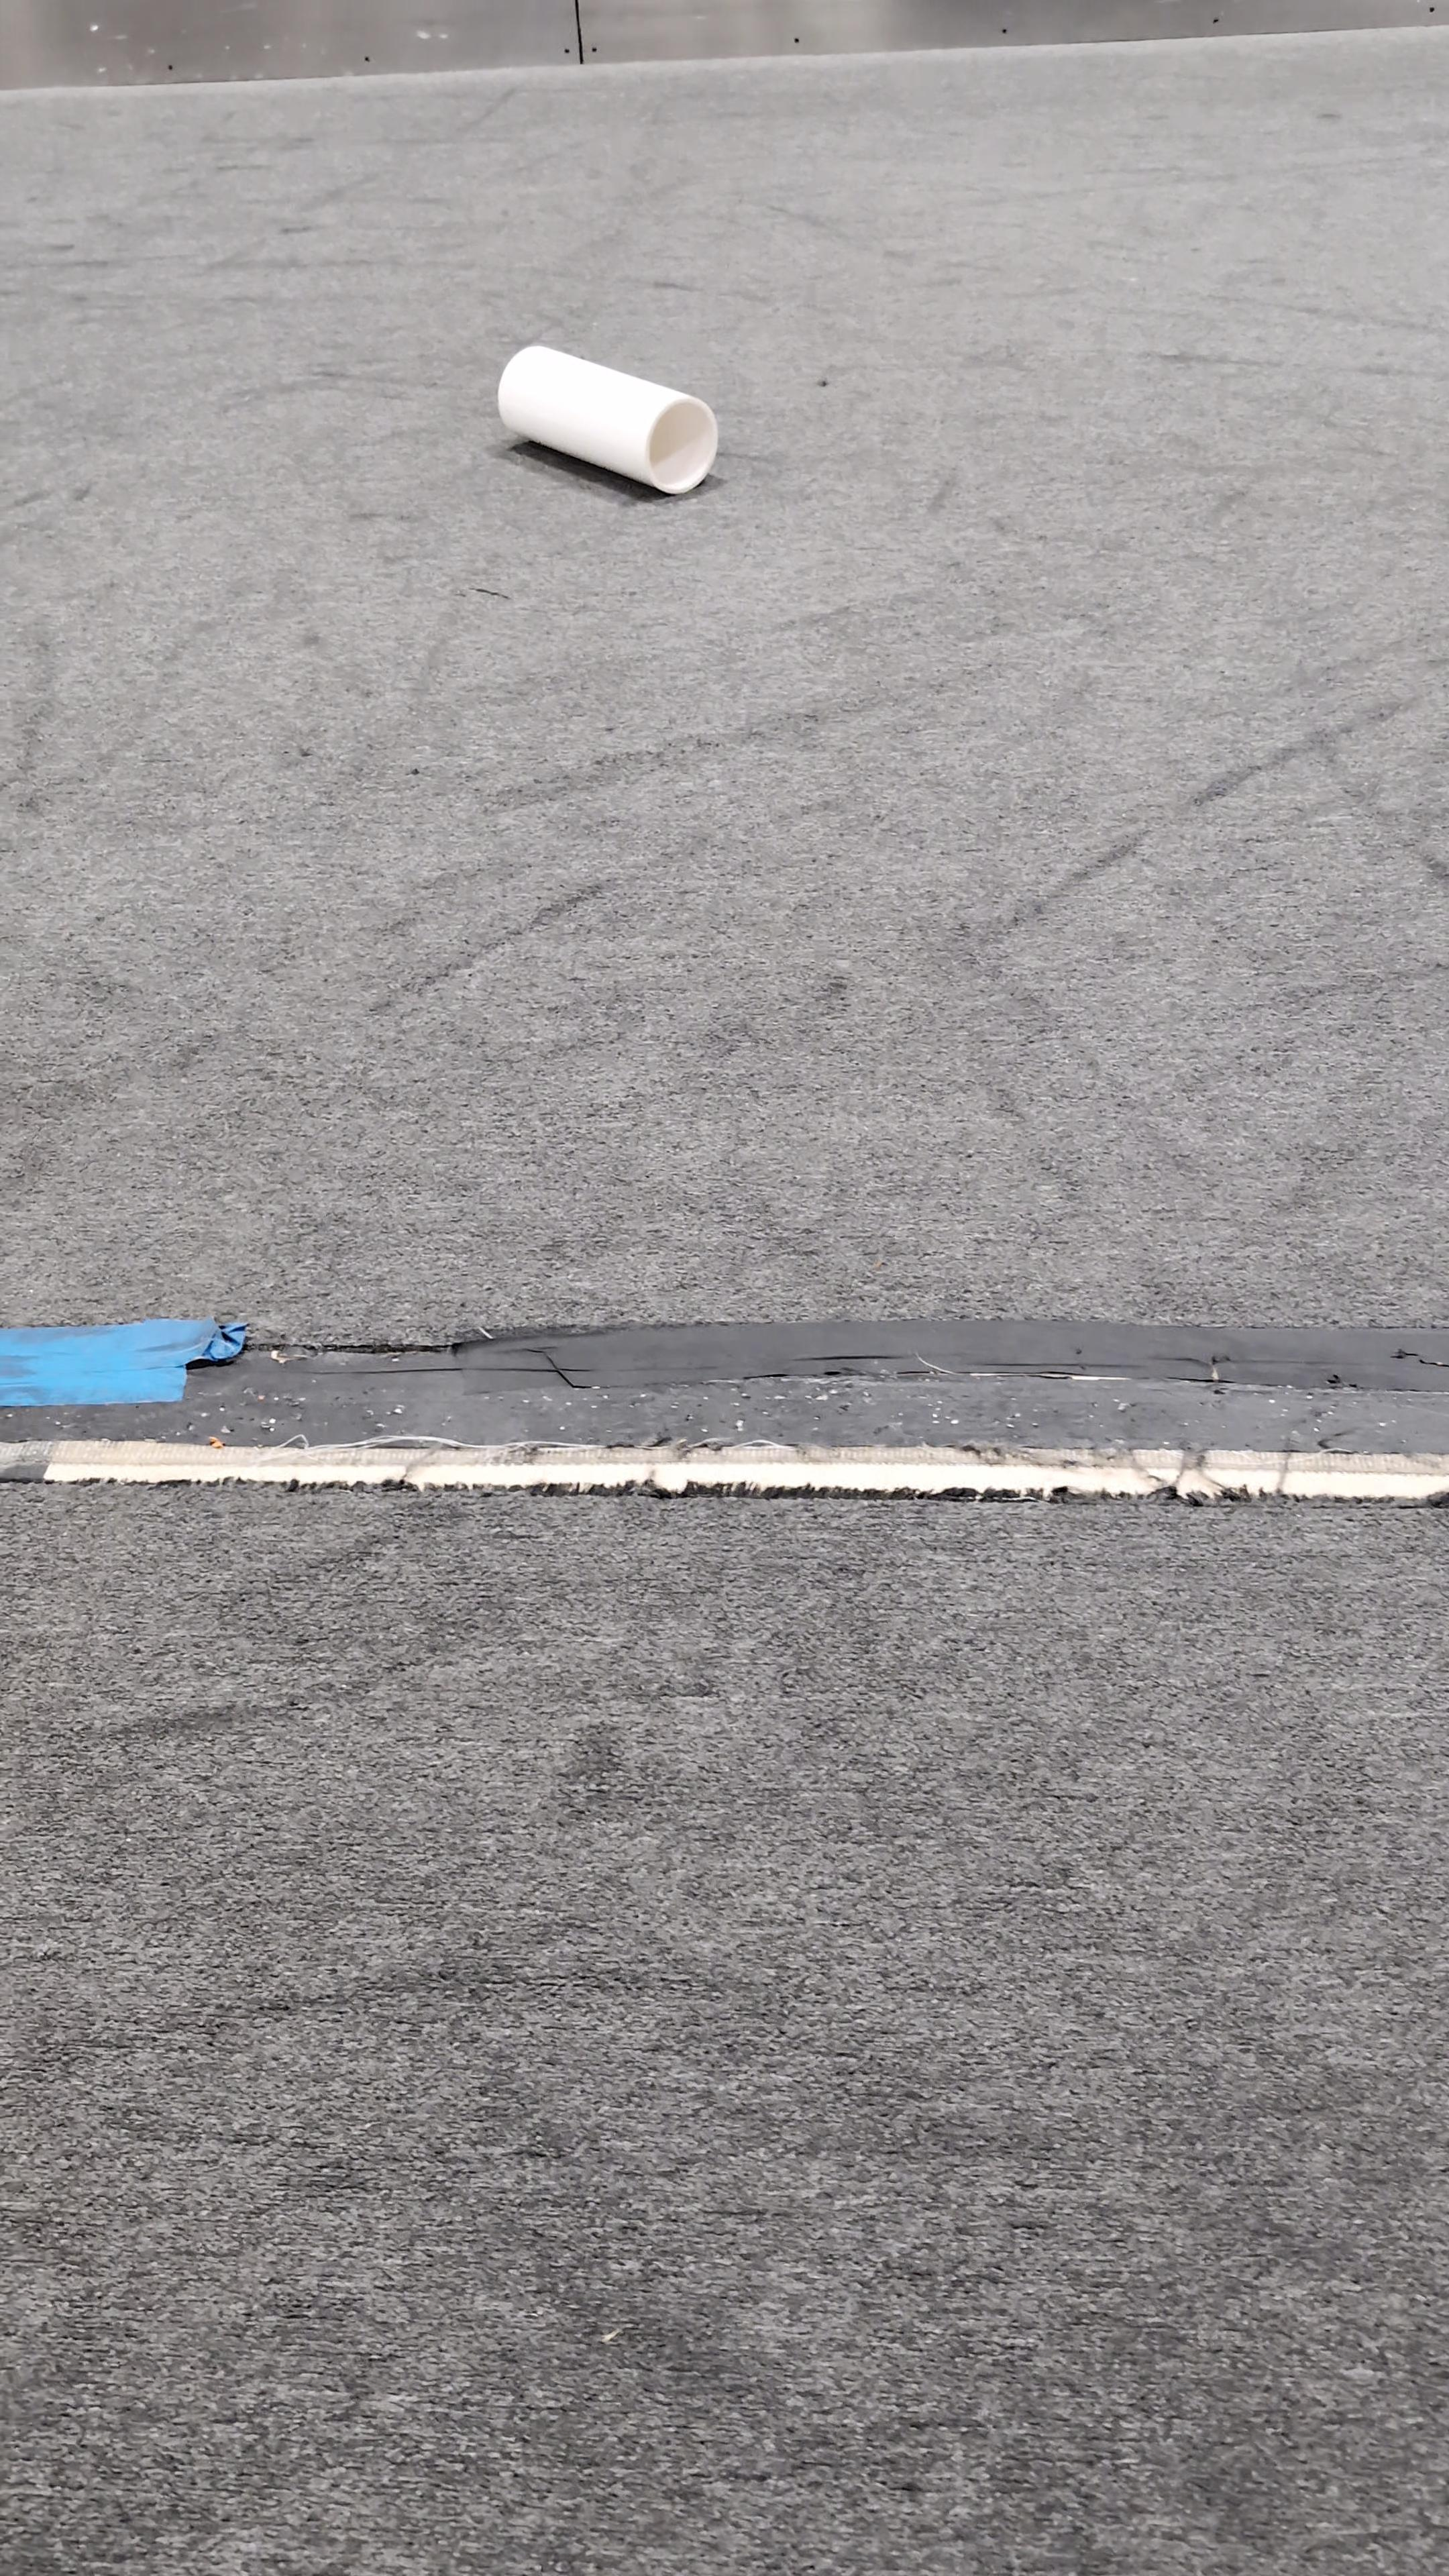coral: (495, 340, 718, 495)
